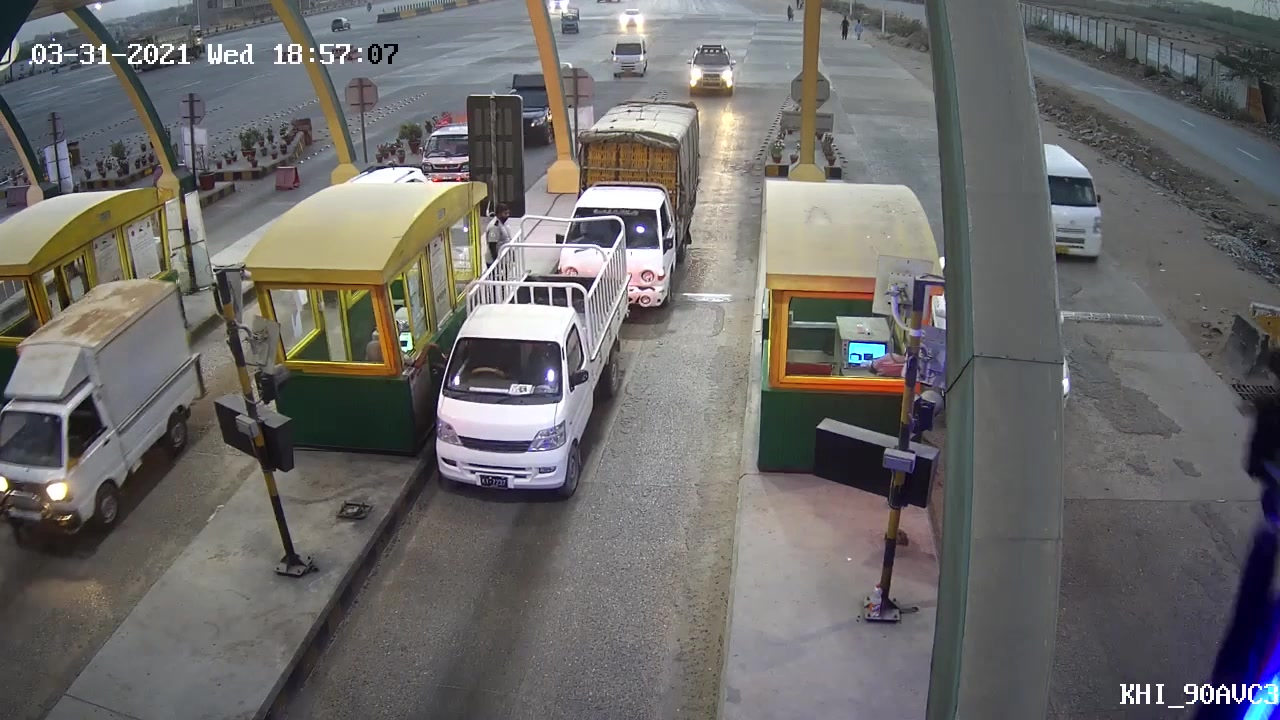F2: (428, 247, 616, 498), (566, 97, 709, 308)
